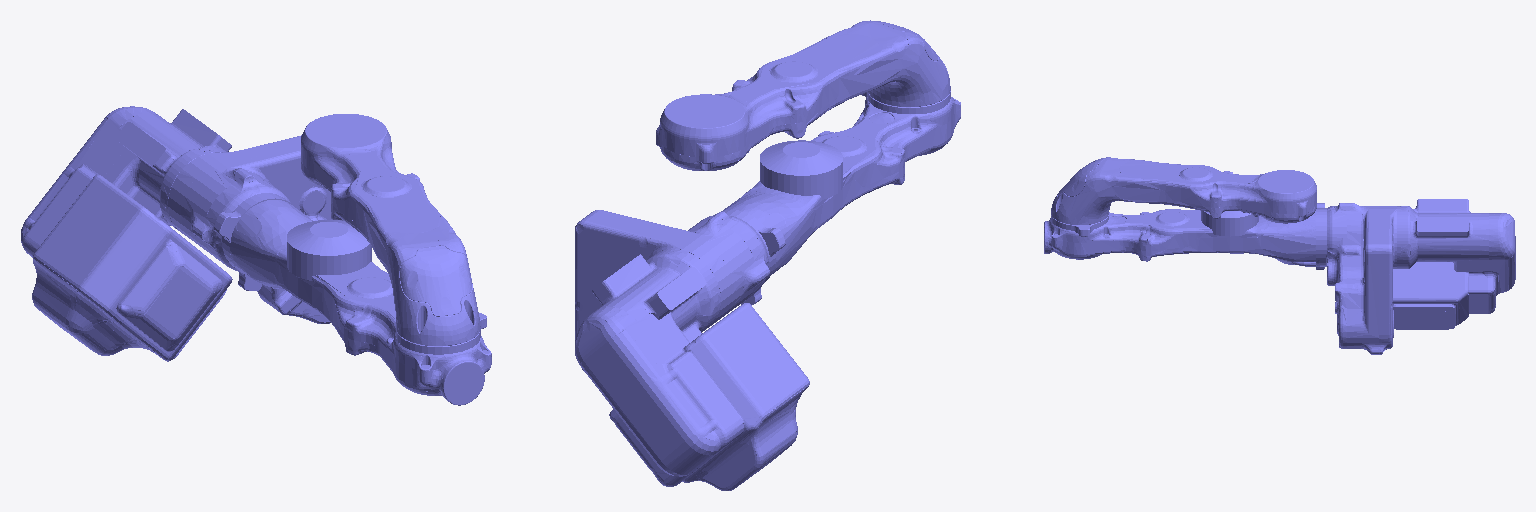
The robot description file, URDF, robot "manipulator":
<?xml version="1.0" ?>
<!-- =================================================================================== -->
<!-- |    This document was autogenerated by xacro from /local_data/sjoshi/camera_workspace/workspace/src/catkin/robots/robot_properties/robot_properties_manipulator/xacro/manipulator.urdf.xacro | -->
<!-- |    EDITING THIS FILE BY HAND IS NOT RECOMMENDED                                 | -->
<!-- =================================================================================== -->
<!--

THIS FILE IS DEPRECATED!

It only remains for legacy support but may be deleted anytime in the future
without warning!

Use instead finger_with_stage.urdf.xacro which defines the same setup (finger
robot with stage) but defines frames in a more standard way and is a bit more
nicely organized.

-->
<robot name="manipulator" xmlns:controller="http://playerstage.sourceforge.net/gazebo/xmlschema/#controller" xmlns:interface="http://playerstage.sourceforge.net/gazebo/xmlschema/#interface" xmlns:sensor="http://playerstage.sourceforge.net/gazebo/xmlschema/#sensor" xmlns:xacro="http://playerstage.sourceforge.net/gazebo/xmlschema/#interface">
  <!-- base link -->
  <link name="base_link">
    <visual>
      <origin rpy="0 0 0" xyz="0 0 0"/>
      <geometry>
        <mesh filename="package://robot_properties_manipulator/meshes/stl/BL_Finger_Holder_SIM.stl"/>
      </geometry>
      <material name="material">
        <color rgba="0.6 0.6 1.0 1.0"/>
      </material>
    </visual>
    <collision>
      <origin rpy="0 0 0" xyz="0 0 0"/>
      <geometry>
        <mesh filename="package://robot_properties_manipulator/meshes/stl/BL_Finger_Holder_SIM.stl"/>
      </geometry>
      <material name="material">
        <color rgba="0.6 0.6 1.0 1.0"/>
      </material>
    </collision>
  </link>
  <link name="base_module_link">
    <visual>
      <origin rpy="0 0 0" xyz="0 0 0"/>
      <geometry>
        <mesh filename="package://robot_properties_manipulator/meshes/stl/SIM__BL-Finger_Base.stl"/>
      </geometry>
      <material name="material">
        <color rgba="0.6 0.6 1.0 1.0"/>
      </material>
    </visual>
    <collision>
      <origin rpy="0 0 0" xyz="0 0 0"/>
      <geometry>
        <mesh filename="package://robot_properties_manipulator/meshes/stl/SIM__BL-Finger_Base.stl"/>
      </geometry>
      <material name="material">
        <color rgba="0.6 0.6 1.0 1.0"/>
      </material>
    </collision>
  </link>
  <link name="base_stage_link">
    <visual>
      <origin rpy="0 0 0" xyz="0 0 0"/>
      <geometry>
        <mesh filename="package://robot_properties_manipulator/meshes/stl/Stage_simplified.stl"/>
      </geometry>
      <material name="material">
        <color rgba="0.6 0.6 1.0 1.0"/>
      </material>
    </visual>
    <collision>
      <origin rpy="0 0 0" xyz="0 0 0"/>
      <geometry>
        <mesh filename="package://robot_properties_manipulator/meshes/stl/Stage_simplified.stl"/>
      </geometry>
      <material name="material">
        <color rgba="0.6 0.6 1.0 1.0"/>
      </material>
    </collision>
  </link>
  <joint name="base_to_stage" type="fixed">
    <parent link="base_link"/>
    <child link="base_stage_link"/>
    <origin xyz="0 0 -0.2665"/>
  </joint>
  <joint name="base_to_module" type="fixed">
    <parent link="base_link"/>
    <child link="base_module_link"/>
    <origin xyz="0 0.20595 0"/>
  </joint>
  <!-- proximal link -->
  <link name="proximal_link">
    <visual>
      <origin rpy="0 0 0" xyz="0 0 0"/>
      <geometry>
        <mesh filename="package://robot_properties_manipulator/meshes/stl/SIM__BL-Finger_Proximal.stl"/>
      </geometry>
      <material name="material">
        <color rgba="0.6 0.6 1.0 1.0"/>
      </material>
    </visual>
    <collision>
      <origin rpy="0 0 0" xyz="0 0 0"/>
      <geometry>
        <mesh filename="package://robot_properties_manipulator/meshes/stl/SIM__BL-Finger_Proximal.stl"/>
      </geometry>
      <material name="material">
        <color rgba="0.6 0.6 1.0 1.0"/>
      </material>
    </collision>
    <inertial>
      <origin rpy="0 0 0" xyz="0 0.06 0"/>
      <mass value="0.2"/>
      <inertia ixx="0.000333333333333" ixy="0" ixz="0" iyy="1.33333333333e-05" iyz="0" izz="0.000333333333333"/>
    </inertial>
  </link>
  <!-- central link -->
  <link name="central_link">
    <visual>
      <origin rpy="0 0 0" xyz="0 0 0"/>
      <geometry>
        <mesh filename="package://robot_properties_manipulator/meshes/stl/SIM__BL-Finger_Intermediate.stl"/>
      </geometry>
      <material name="material">
        <color rgba="0.6 0.6 1.0 1.0"/>
      </material>
    </visual>
    <collision>
      <origin rpy="0 0 0" xyz="0 0 0"/>
      <geometry>
        <mesh filename="package://robot_properties_manipulator/meshes/stl/SIM__BL-Finger_Intermediate.stl"/>
      </geometry>
      <material name="material">
        <color rgba="0.6 0.6 1.0 1.0"/>
      </material>
    </collision>
    <inertial>
      <origin rpy="0 0 0" xyz="0 -0.06 0"/>
      <mass value="0.2"/>
      <inertia ixx="0.000333333333333" ixy="0" ixz="0" iyy="1.33333333333e-05" iyz="0" izz="0.000333333333333"/>
    </inertial>
  </link>
  <!-- distal link -->
  <link name="distal_link">
    <visual>
      <origin rpy="0 0 0" xyz="0 0 0"/>
      <geometry>
        <mesh filename="package://robot_properties_manipulator/meshes/stl/SIM_BL_FINGER_TIP_LINK.stl"/>
      </geometry>
      <material name="material">
        <color rgba="0.6 0.6 1.0 1.0"/>
      </material>
    </visual>
    <collision>
      <origin rpy="0 0 0" xyz="0 0 0"/>
      <geometry>
        <mesh filename="package://robot_properties_manipulator/meshes/stl/SIM_BL_FINGER_TIP_LINK.stl"/>
      </geometry>
      <material name="material">
        <color rgba="0.6 0.6 1.0 1.0"/>
      </material>
    </collision>
    <inertial>
      <origin rpy="0 0 0" xyz="0 -0.07 0"/>
      <mass value="0.05"/>
      <inertia ixx="8.20833333333e-05" ixy="0" ixz="0" iyy="8.33333333333e-07" iyz="0" izz="8.20833333333e-05"/>
    </inertial>
  </link>
  <link name="distal_padding_link">
    <visual>
      <origin rpy="0 0 0" xyz="0 0 0"/>
      <geometry>
        <mesh filename="package://robot_properties_manipulator/meshes/stl/finger_padding.stl"/>
      </geometry>
      <material name="material">
        <color rgba="0.6 0.6 1.0 1.0"/>
      </material>
    </visual>
    <collision>
      <origin rpy="0 0 0" xyz="0 0 0"/>
      <geometry>
        <mesh filename="package://robot_properties_manipulator/meshes/stl/finger_padding.stl"/>
      </geometry>
      <material name="material">
        <color rgba="0.6 0.6 1.0 1.0"/>
      </material>
    </collision>
  </link>
  <joint name="tip_to_padding" type="fixed">
    <parent link="distal_link"/>
    <child link="distal_padding_link"/>
    <origin xyz="-0.0125 -0.16 0"/>
  </joint>
  <!-- kinematics -->
  <joint name="base_proximal_joint" type="revolute">
    <parent link="base_link"/>
    <child link="proximal_link"/>
    <limit effort="1000" lower="0" upper="3.14" velocity="1000"/>
    <axis rpy="0 0 0" xyz="0 1 0"/>
    <origin rpy="0 -1.5708 0" xyz="0 0 0"/>
  </joint>
  <joint name="proximal_central_joint" type="revolute">
    <parent link="proximal_link"/>
    <child link="central_link"/>
    <limit effort="1000" lower="-5.846853" upper="0" velocity="1000"/>
    <axis rpy="0 0 0" xyz="-1 0 0"/>
    <origin rpy="2.9234265 0 0" xyz="0.014 0.02695 0"/>
  </joint>
  <joint name="central_distal_joint" type="revolute">
    <parent link="central_link"/>
    <child link="distal_link"/>
    <limit effort="1000" lower="0" upper="6.00394" velocity="1000"/>
    <axis rpy="0 0 0" xyz="1 0 0"/>
    <origin rpy="-2.9 0 0" xyz="0 -0.16 0"/>
  </joint>
</robot>

--- What the picture shows (computed from the rendered views, not written in the file) ---
Views: 3 orthographic renders of the robot side by side, from view 1: azimuth 30°, elevation 25°; view 2: azimuth 150°, elevation 25°; view 3: azimuth 270°, elevation 25°.
Robot: manipulator — 7 links, 6 joints (3 revolute, 3 fixed); root link base_link; default pose: every joint at zero.
Visible links, largest first — view 1: base_module_link, central_link, proximal_link; view 2: base_module_link, central_link, proximal_link; view 3: base_module_link, central_link, proximal_link.
Boxes of the visible links, box(x1,y1,x2,y2) form: base_module_link: box(21, 106, 342, 361); central_link: box(301, 114, 486, 354); proximal_link: box(230, 200, 491, 405); base_module_link: box(575, 210, 809, 490); central_link: box(656, 20, 950, 170); proximal_link: box(723, 97, 960, 282); base_module_link: box(1316, 199, 1515, 354); central_link: box(1051, 157, 1316, 236); proximal_link: box(1044, 209, 1319, 266).
Size in the robot's own frame: 0.1463 by 0.3571 by 0.152 metres.
Meshes: 7 distinct files referenced, 3 mesh visuals loaded (3 binary STL); not drawn: 4 (reference not matched to a file when rendering).